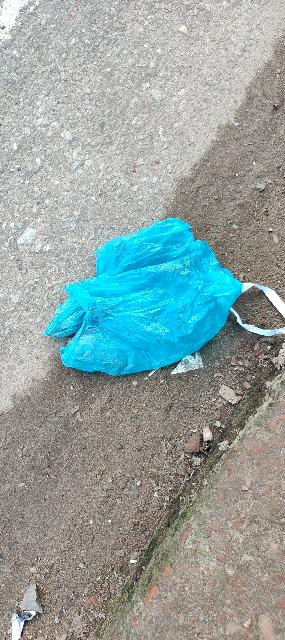polythene: (45, 217, 241, 377)
